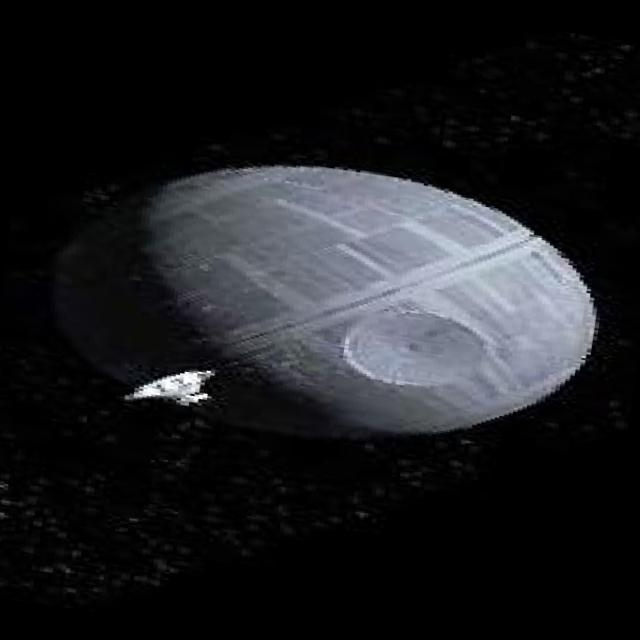Death Star: (27, 115, 618, 491)
